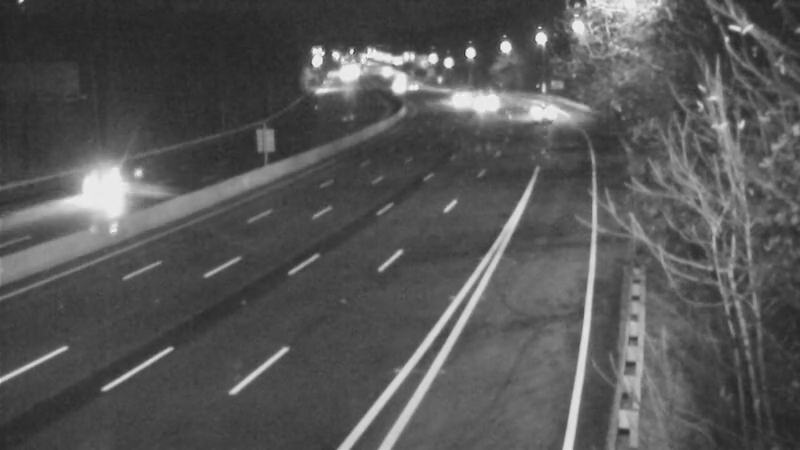vehicle: (72, 140, 152, 220), (389, 66, 439, 116), (372, 62, 422, 112), (435, 76, 485, 126), (455, 78, 505, 128), (514, 86, 564, 136)
